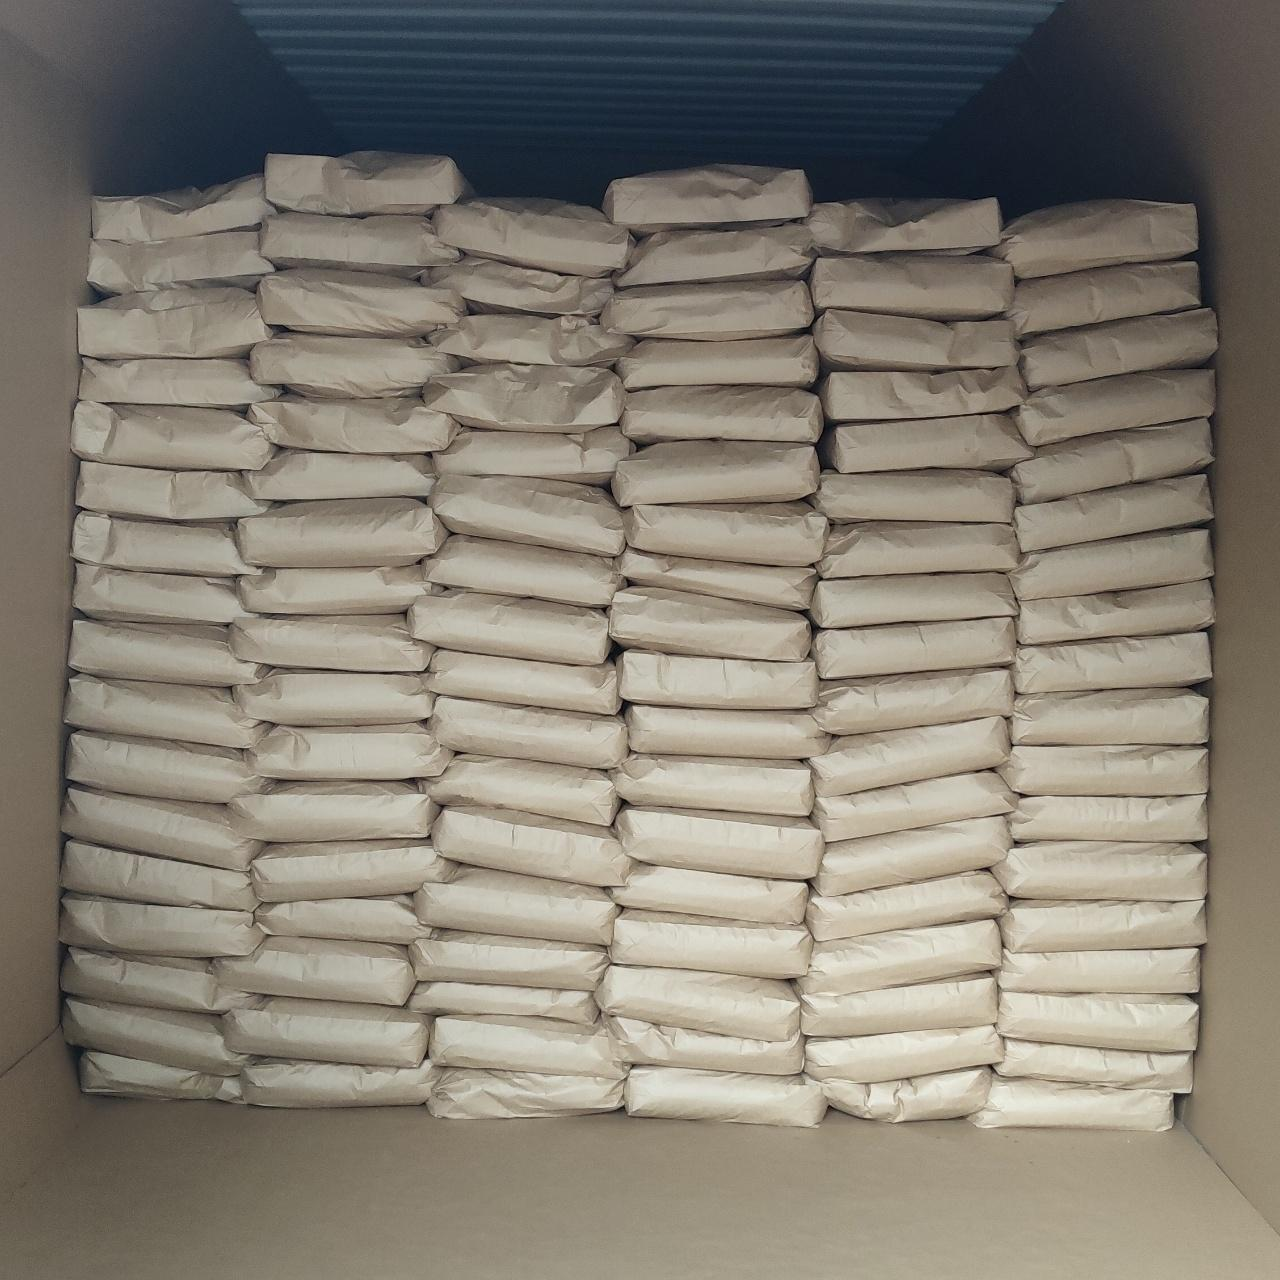sack: (61, 787, 263, 870), (1010, 421, 1211, 503), (1020, 308, 1217, 392), (989, 200, 1197, 278), (812, 816, 1012, 896), (416, 866, 618, 945), (808, 717, 1009, 796), (433, 197, 633, 275), (433, 806, 629, 886), (429, 476, 624, 556), (1013, 475, 1212, 552), (615, 805, 823, 879), (595, 965, 799, 1040), (64, 998, 259, 1076), (1012, 370, 1214, 445), (799, 919, 1001, 994), (234, 497, 447, 567), (1006, 261, 1199, 338), (223, 996, 430, 1067), (64, 675, 268, 747), (610, 587, 810, 660), (602, 164, 812, 233), (407, 592, 610, 663), (1009, 529, 1212, 600), (72, 400, 273, 470), (429, 696, 627, 768), (812, 772, 1016, 842), (422, 536, 622, 606), (610, 908, 812, 978), (257, 268, 467, 335), (806, 872, 1008, 941), (611, 440, 819, 506), (67, 731, 264, 802), (62, 840, 259, 911), (79, 286, 272, 358), (212, 937, 415, 1005), (423, 365, 625, 433), (61, 946, 266, 1013), (808, 252, 1013, 319), (425, 755, 618, 825), (811, 668, 1013, 735), (622, 501, 828, 566), (248, 334, 459, 397), (68, 619, 266, 686), (612, 223, 817, 287), (266, 151, 470, 215), (992, 840, 1206, 900), (61, 894, 263, 958), (819, 414, 1033, 474), (612, 753, 812, 816), (813, 309, 1017, 372), (252, 840, 459, 901), (1017, 579, 1213, 644), (602, 280, 813, 340), (811, 617, 1014, 679), (424, 649, 619, 714), (260, 212, 461, 274), (91, 173, 274, 241), (1012, 632, 1211, 694), (248, 394, 459, 452), (624, 1065, 826, 1126), (72, 511, 259, 577), (429, 1017, 626, 1080), (229, 782, 437, 840), (88, 229, 273, 294), (998, 990, 1197, 1051), (619, 549, 817, 610), (801, 975, 998, 1036), (619, 386, 823, 444), (410, 931, 608, 990), (617, 651, 818, 709), (434, 425, 634, 484), (602, 1016, 803, 1075), (817, 520, 1017, 579), (818, 366, 1027, 422), (612, 864, 808, 924), (617, 333, 819, 390), (229, 614, 433, 670), (810, 573, 1017, 628), (77, 461, 268, 520), (422, 257, 613, 316), (251, 723, 452, 779), (74, 564, 258, 624), (625, 704, 829, 758), (233, 669, 433, 724), (969, 1076, 1172, 1130), (804, 198, 1002, 253), (1000, 899, 1206, 952), (805, 1024, 1002, 1080), (1012, 689, 1208, 744), (994, 1039, 1192, 1092), (999, 745, 1208, 796), (429, 314, 634, 365), (815, 471, 1014, 523), (79, 358, 281, 407), (237, 565, 440, 614), (240, 1058, 442, 1107), (241, 451, 434, 502), (821, 1067, 993, 1122), (427, 1069, 622, 1117), (1008, 794, 1207, 840), (999, 948, 1198, 993), (81, 1050, 243, 1102), (256, 896, 430, 942), (410, 982, 598, 1023)
